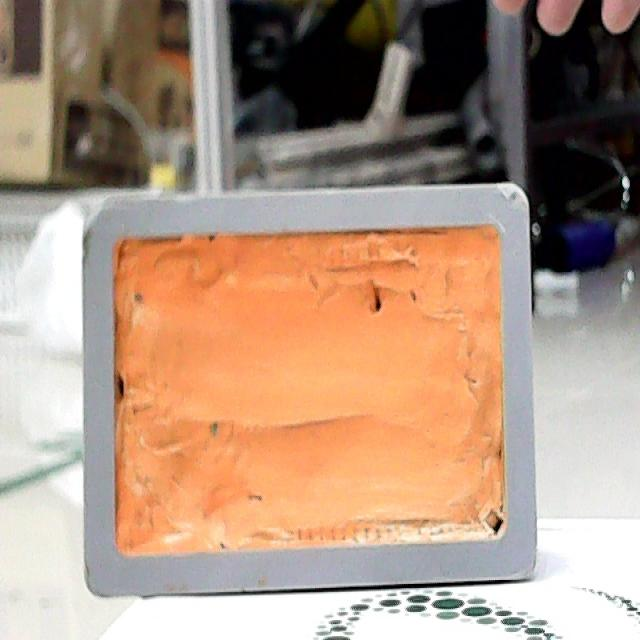block: (81, 187, 537, 593)
